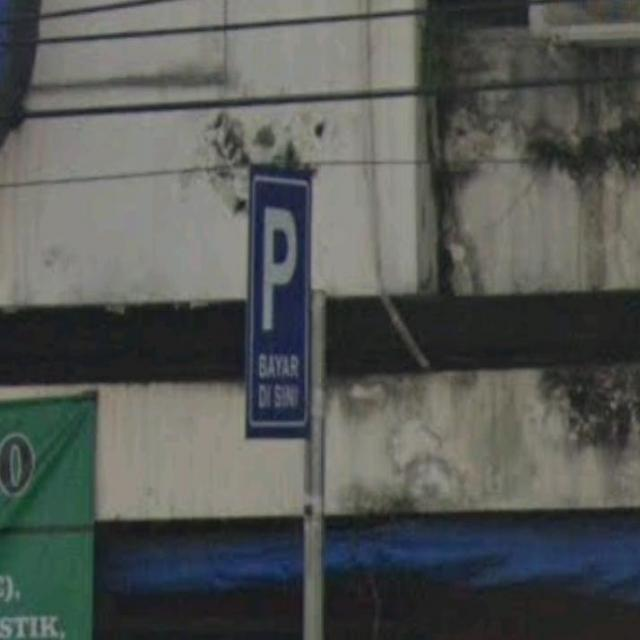traffic sign: (247, 164, 314, 440)
